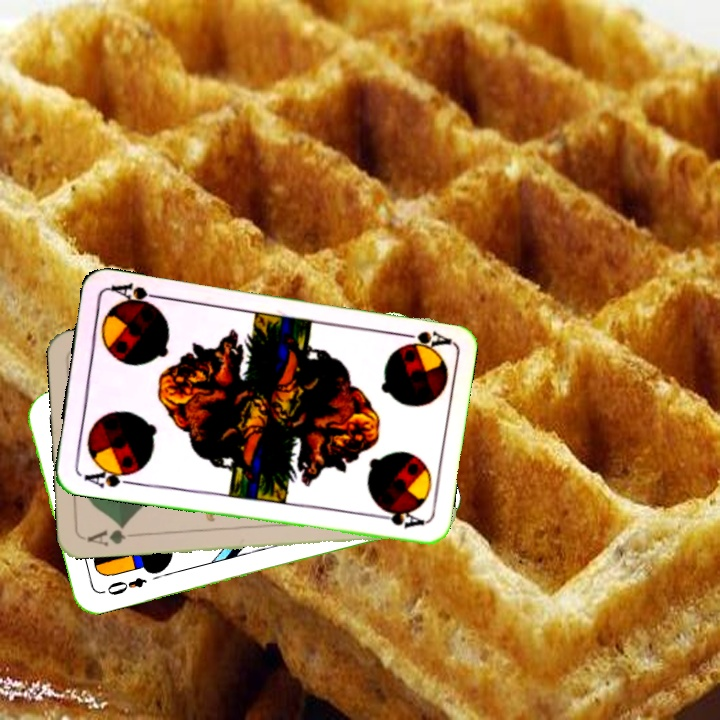EO: (97, 573, 149, 598)
GA: (83, 520, 141, 549)
SA: (80, 462, 139, 490), (393, 326, 452, 352)
